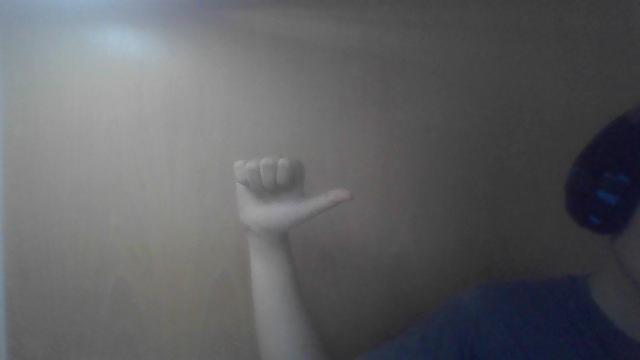left: (224, 151, 360, 236)
